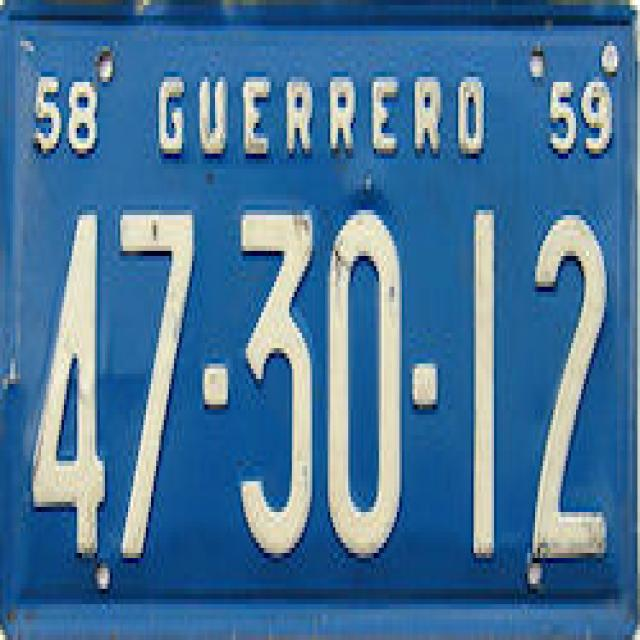placa: (19, 184, 626, 582)
